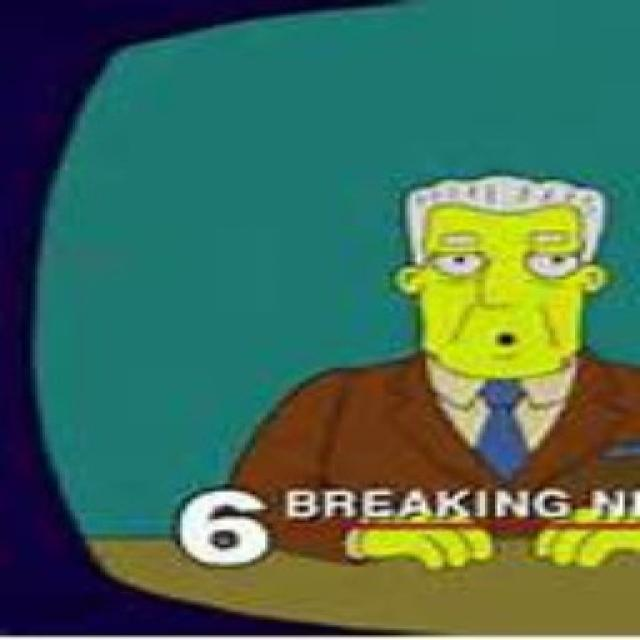Kent Brockman: (389, 170, 621, 384)
